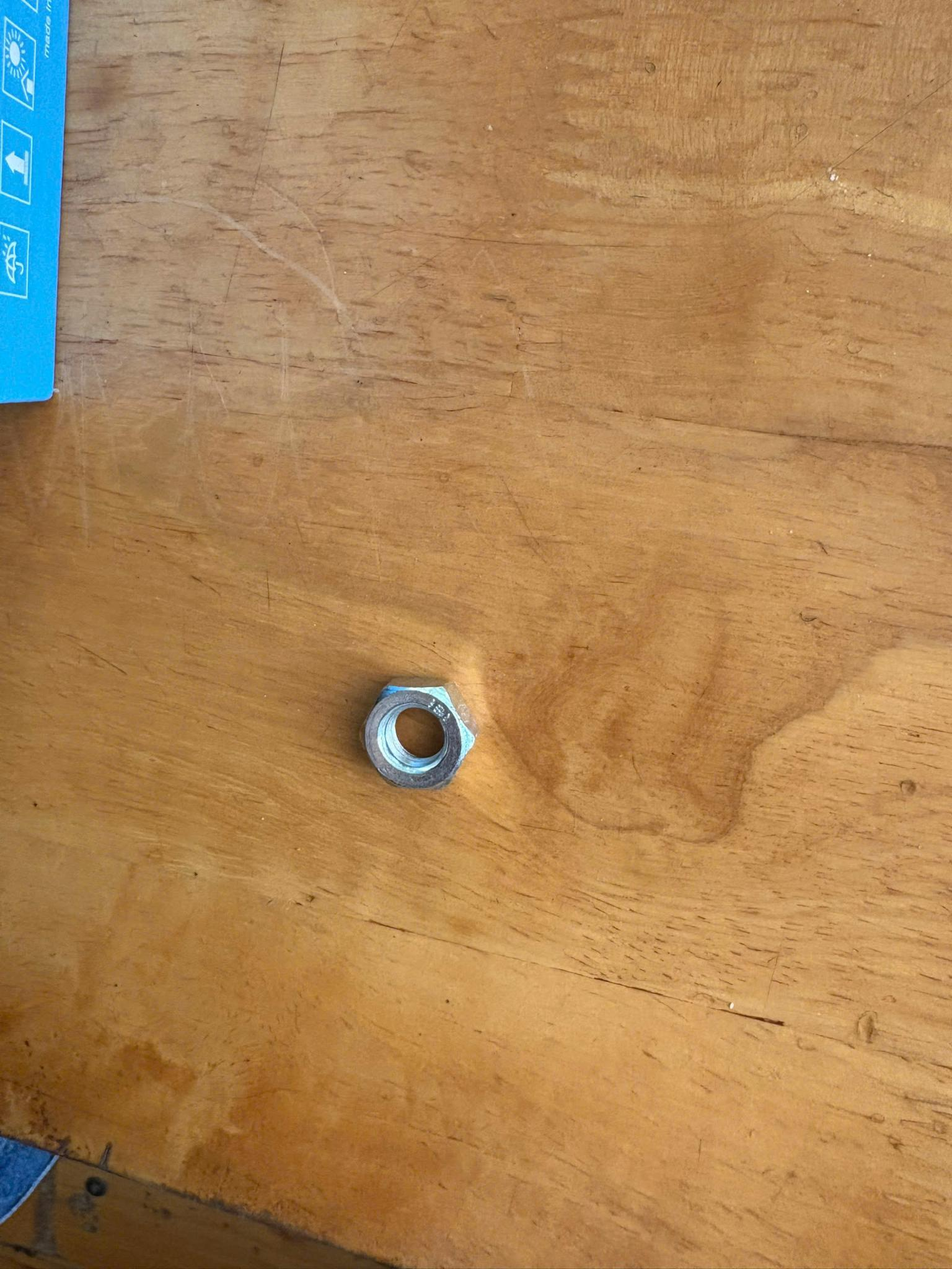nut: (367, 675, 478, 805)
